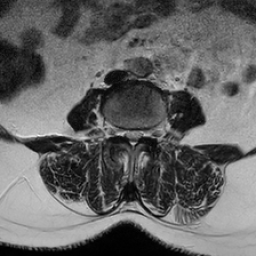CCS_normal: (129, 123, 137, 153)
LFS_normal: (144, 123, 150, 144)
LLS_stenosis: (136, 123, 145, 145)
RFS_normal: (115, 122, 123, 141)
RLS_stenosis: (123, 123, 130, 142)
